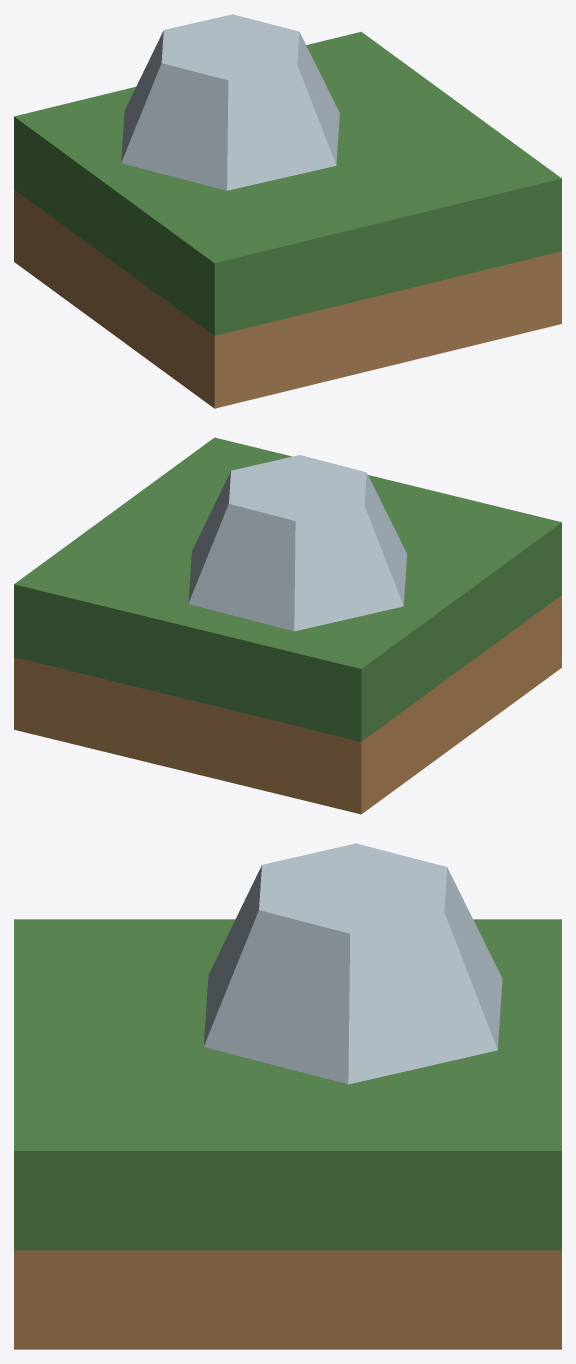
The model's file is tile_077.fbx.
The picture shows the model from 3 angles, top to bottom: view 1: azimuth 30°, elevation 25°; view 2: azimuth 150°, elevation 25°; view 3: azimuth 270°, elevation 25°; orthographic projection. The views are drawn at different scales.
Visible parts, largest first — view 1: tile_077, Group; view 2: tile_077, Group; view 3: tile_077, Group.
Boxes of the visible parts, x1,y1,x2,y2 form: tile_077: (14,31,561,408); Group: (121,14,339,190); tile_077: (14,437,561,814); Group: (188,455,406,631); tile_077: (14,919,561,1349); Group: (203,843,502,1084).
Size of the model in its own units: 10 by 6.5 by 10.
